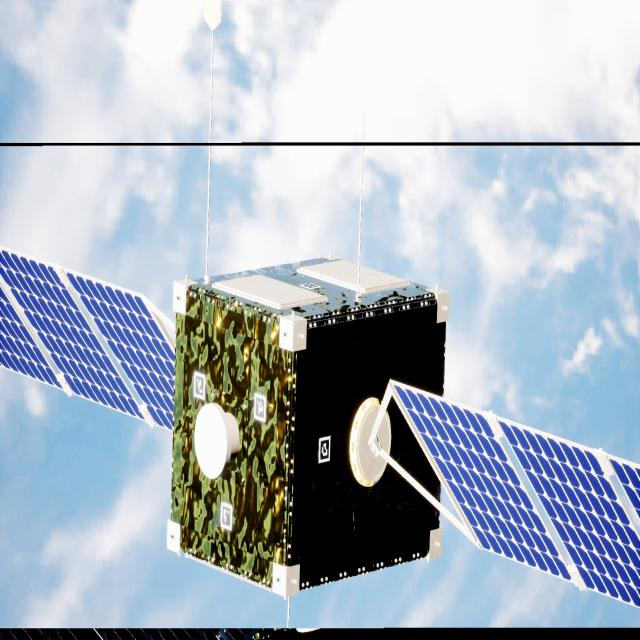satellite: (0, 250, 640, 611)
